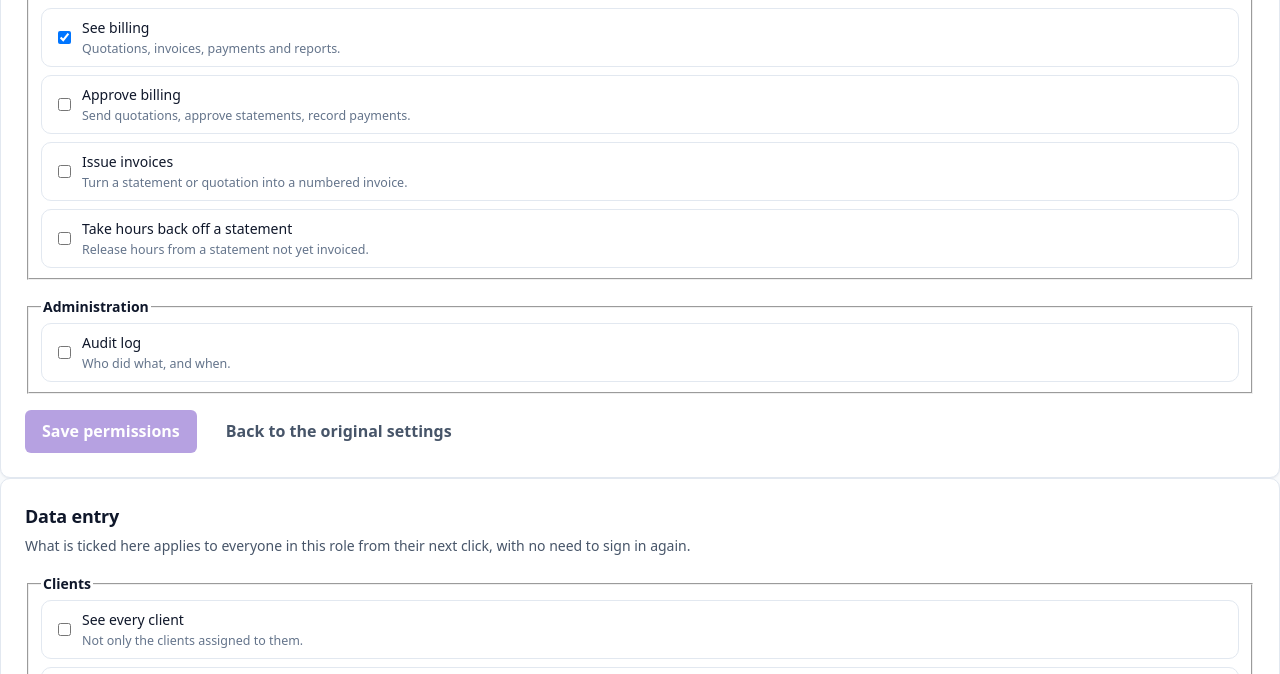
Test: roles and permissions › shows the server’s refusal
(page scrolled)
Click the checkbox labelled "Audit log Who did what, and when." at (64, 353), box [58,346,71,359]
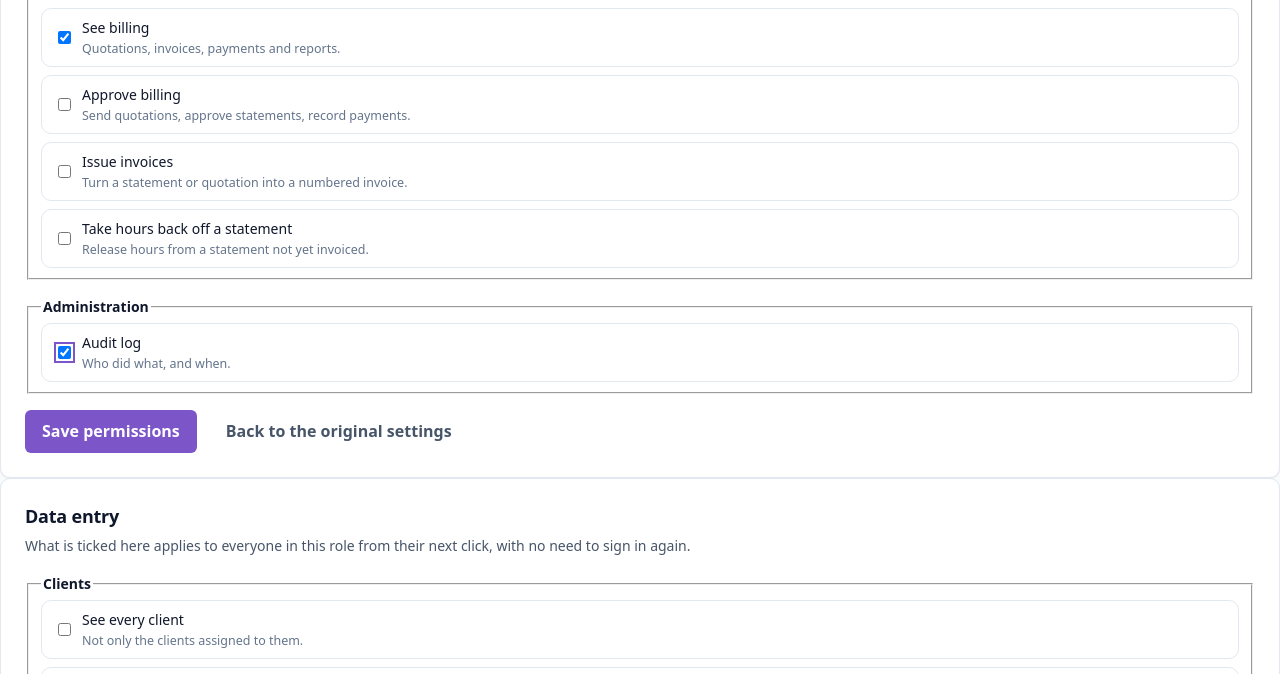
Click the button "Save permissions" at (111, 432), box [25,410,197,453]
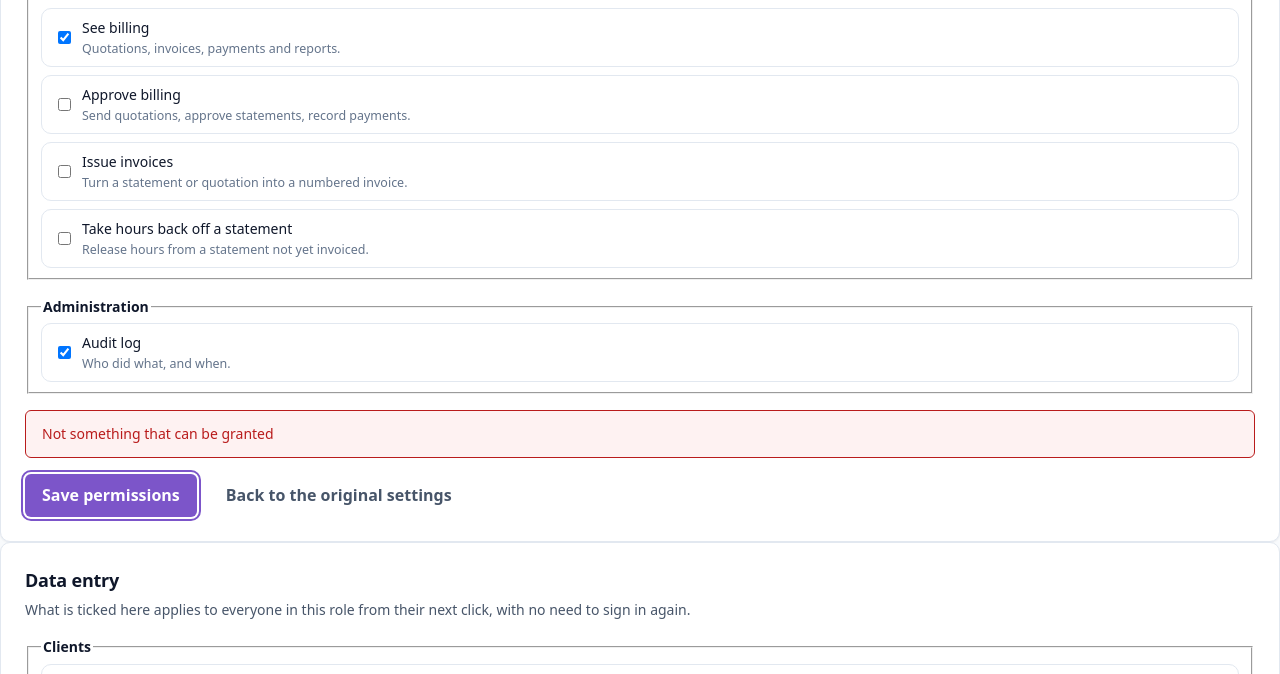
Expected: the text "Not something that can be granted" is shown, [25,410,1255,458]
